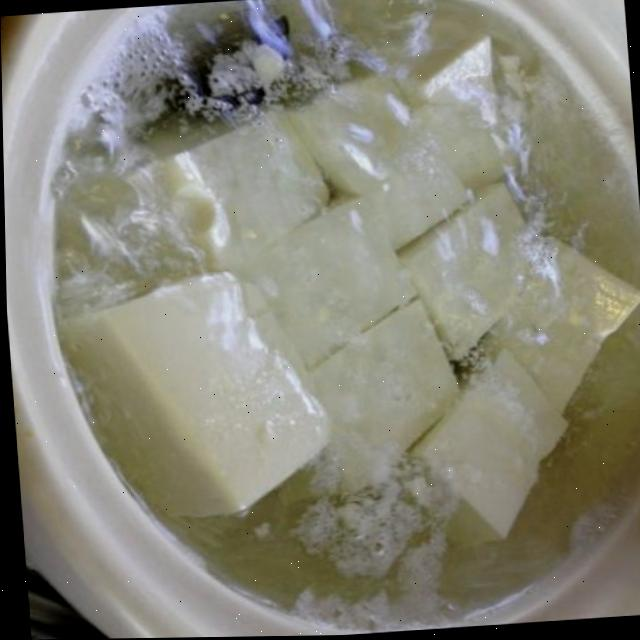豆腐料理: (22, 0, 640, 632)
